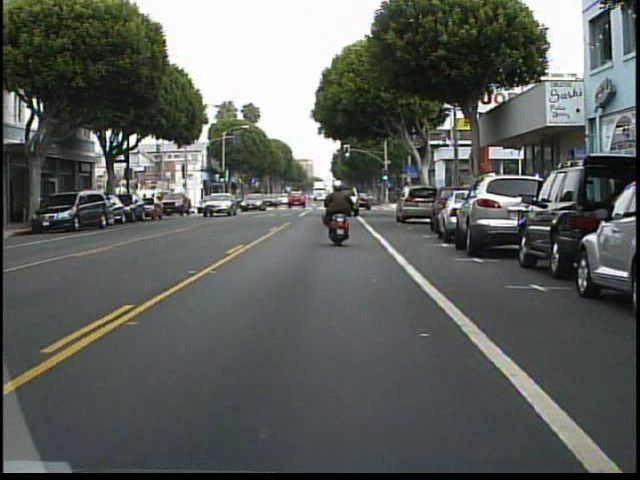person: (322, 175, 360, 246)
